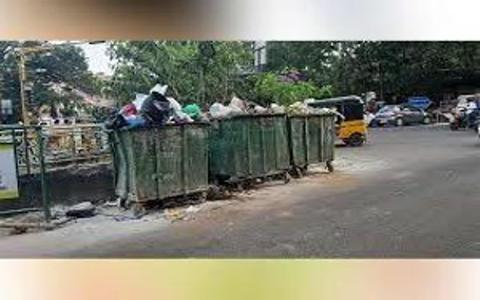overflowing garbage: (98, 82, 221, 228), (213, 102, 292, 218), (290, 100, 362, 206)
